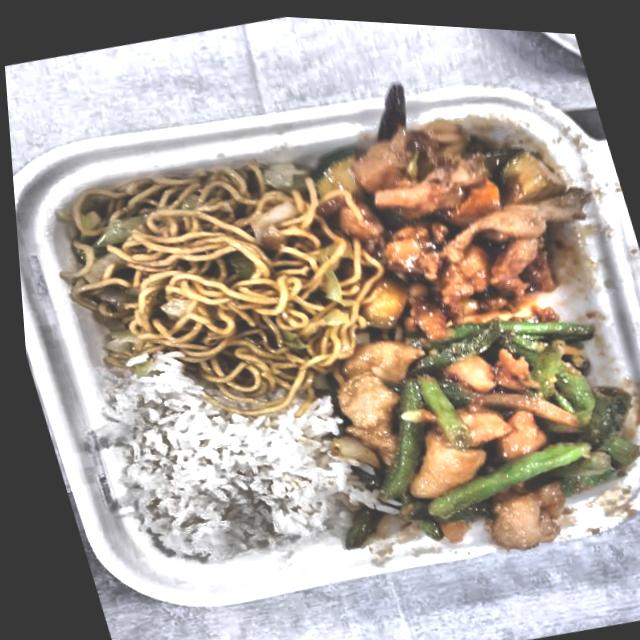Food: (295, 264, 640, 574), (35, 123, 379, 420), (302, 77, 604, 344), (82, 341, 360, 584)
